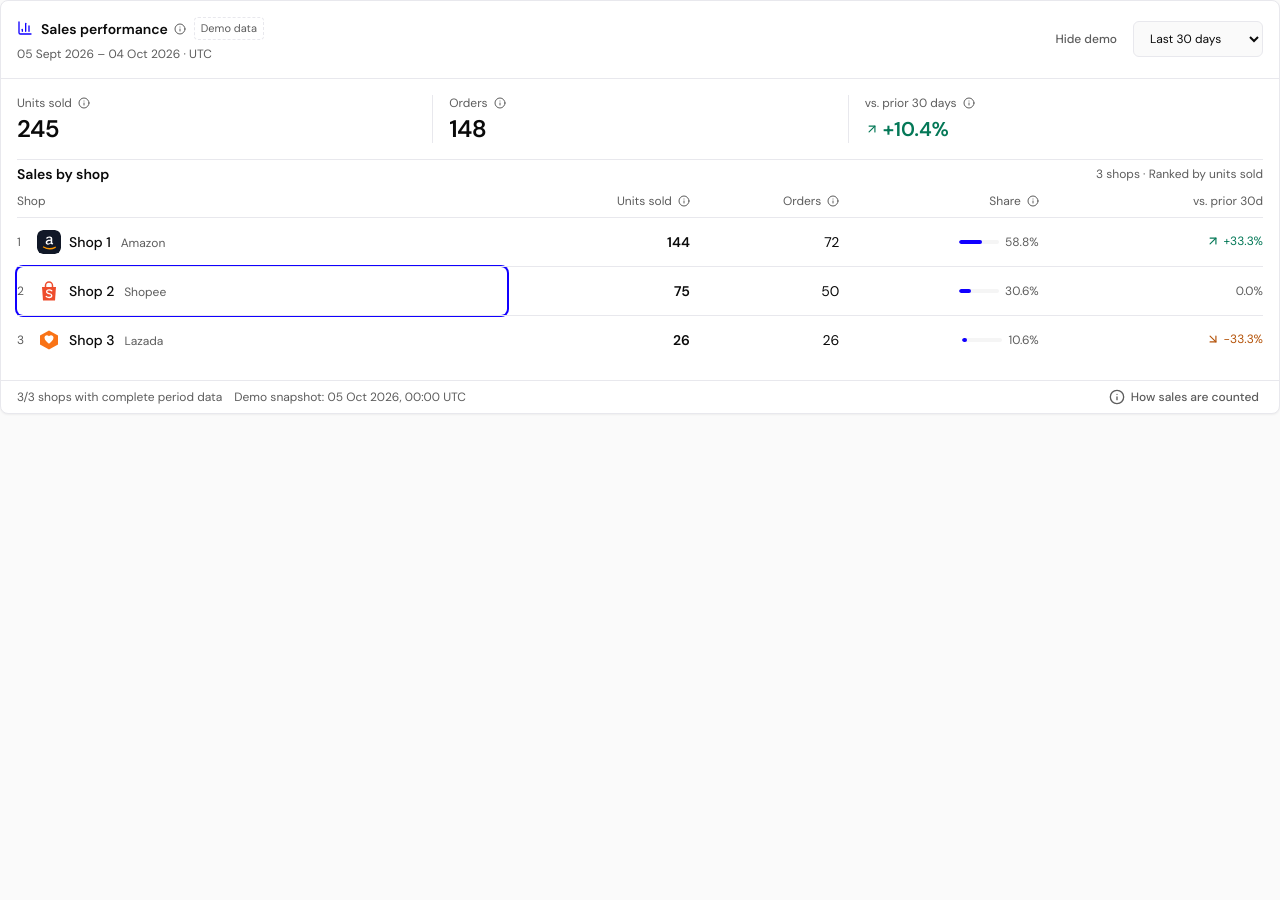
ProductSalesPerformance › drills into the selected product/shop/period, loads more and restores focus
The width and height of the screenshot is (1280, 900).
Click the button with aria-label "View orders for Shop 2". click: (92, 291)
box: [17,267,507,315]
(page scrolled)
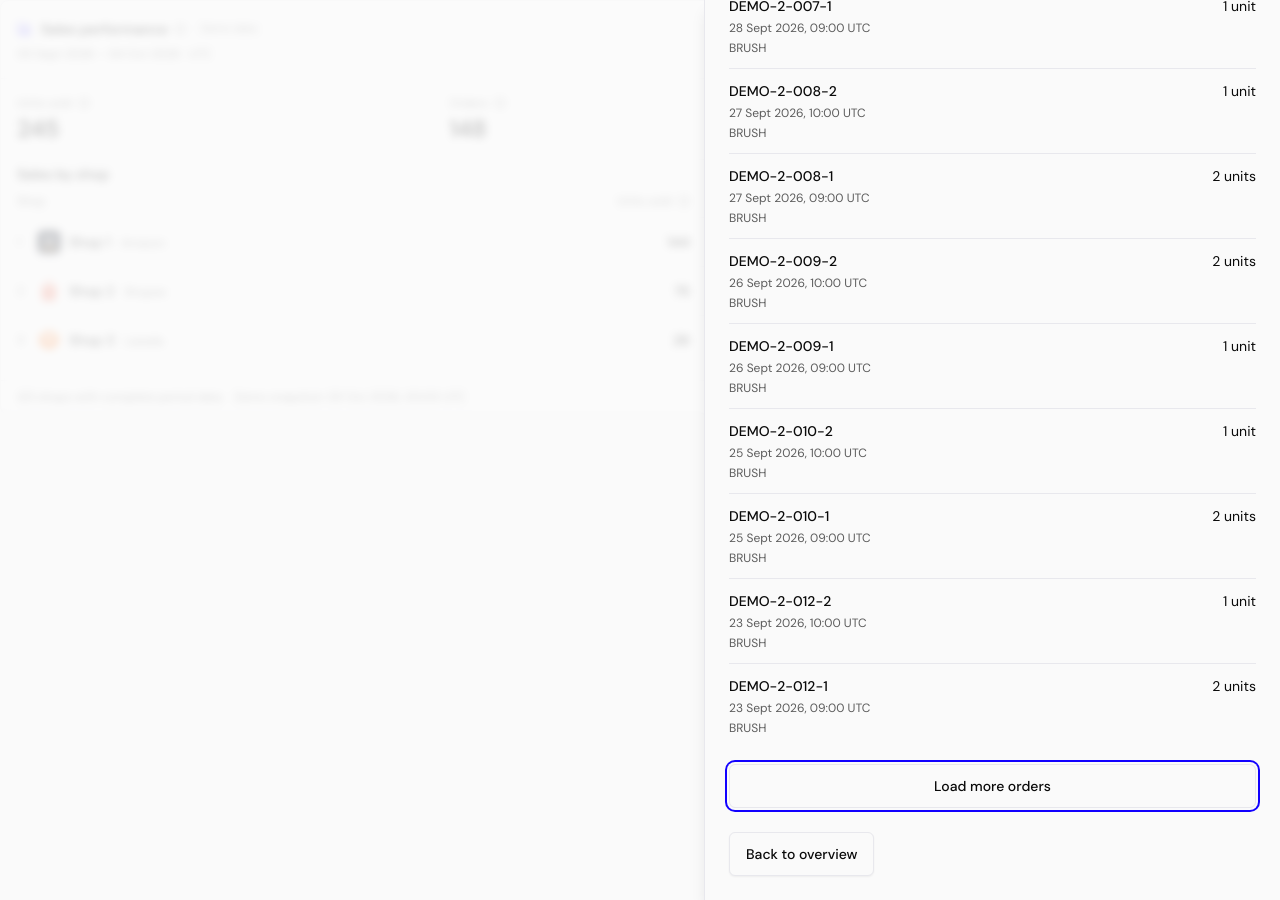
Click the button "Load more orders". click: (992, 786)
box: [729,764,1256,808]
(page scrolled)
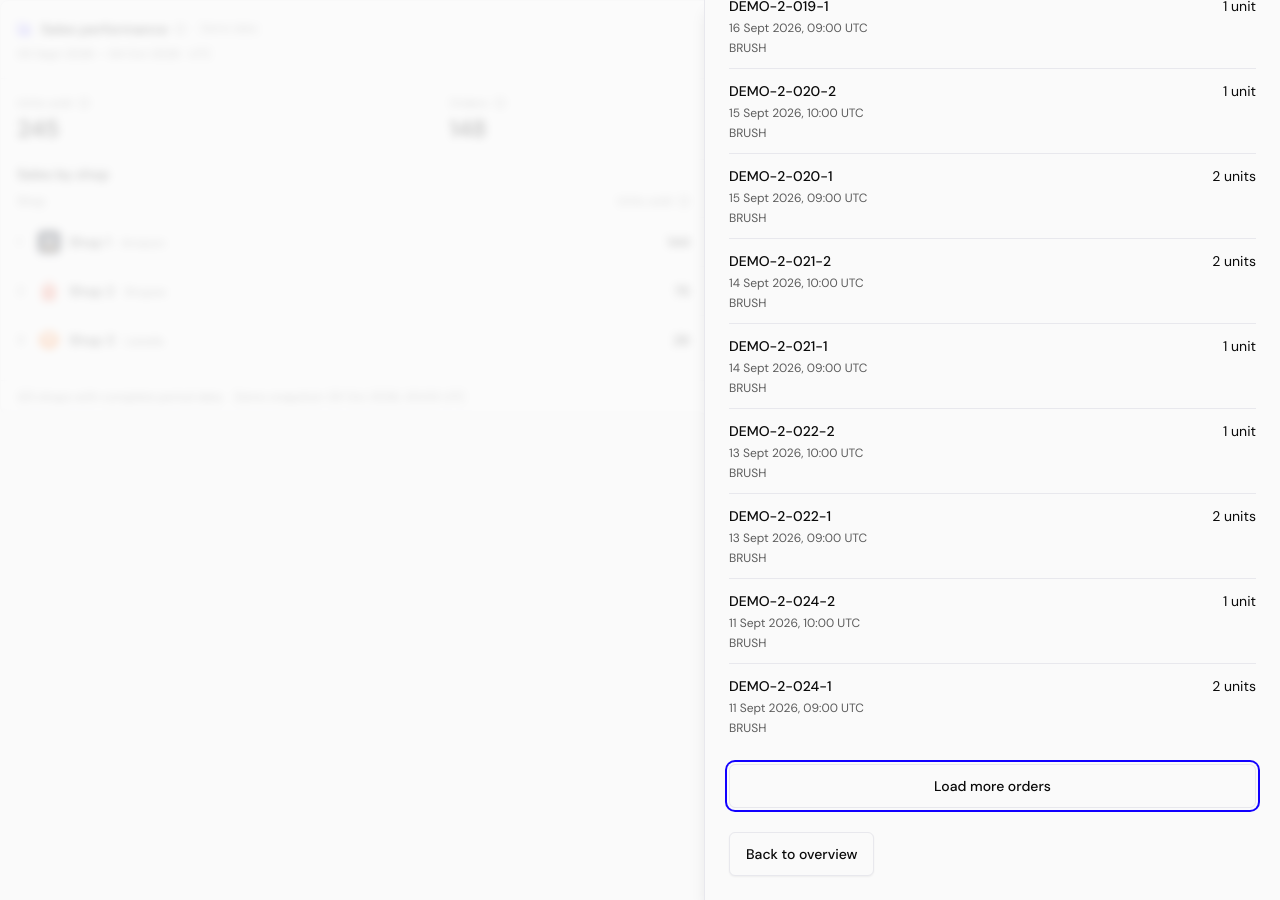
Click the button "Back to overview". click: (802, 854)
box: [729,832,874,876]
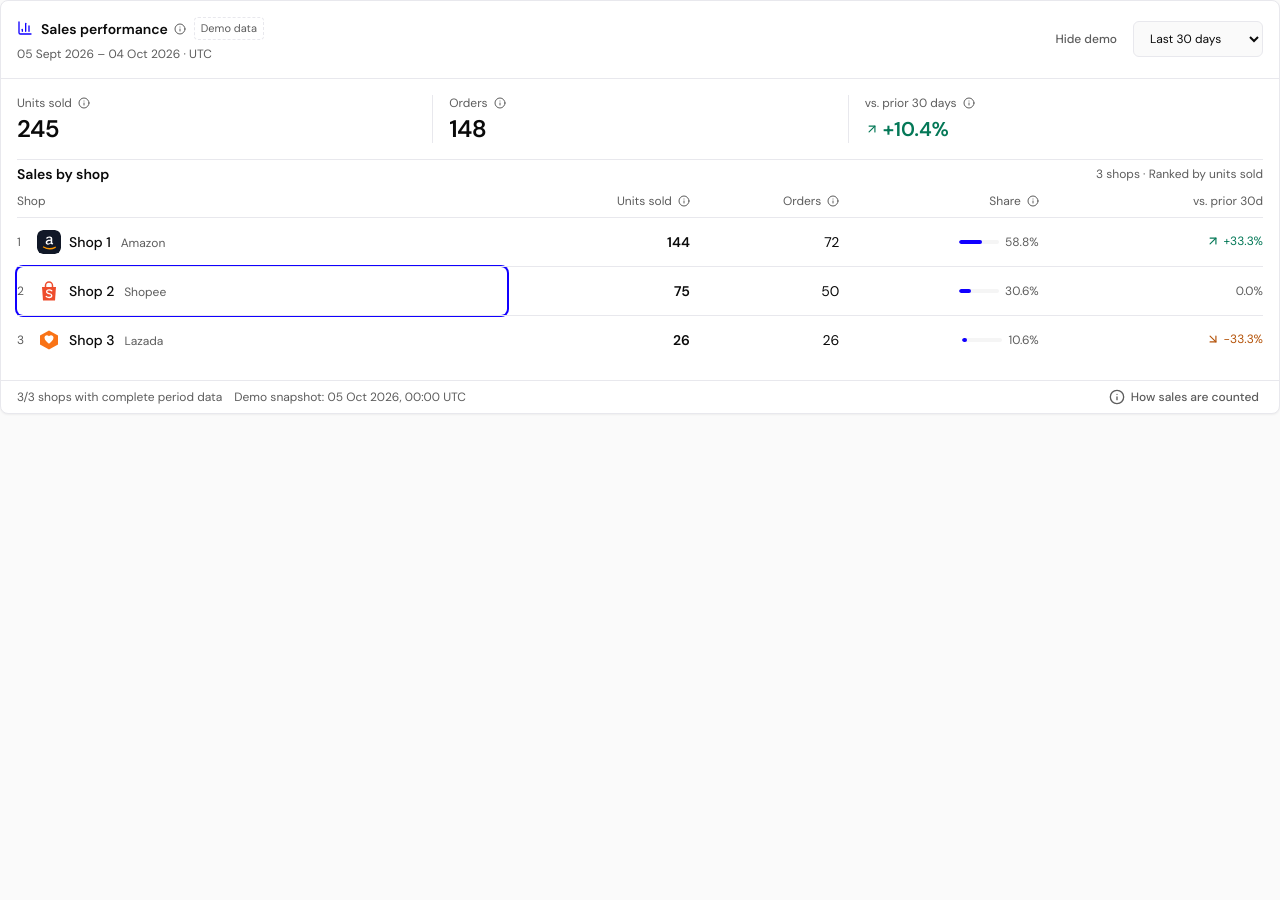
Expected: the dialog is gone
